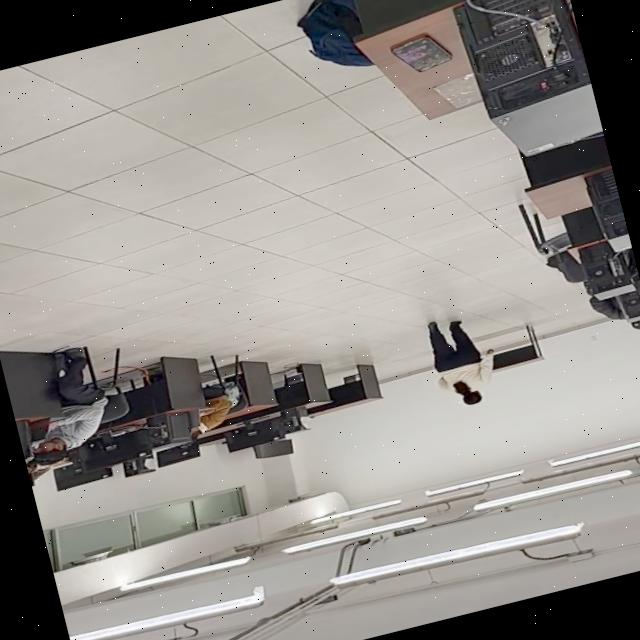Persona: (406, 303, 507, 417)
